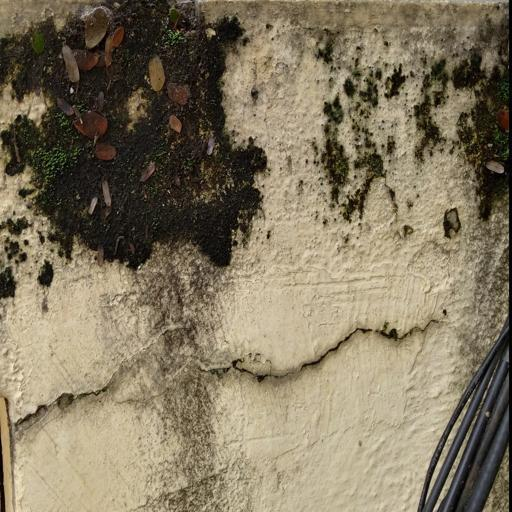algae: (4, 1, 305, 309)
